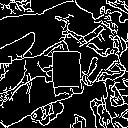cube: (49, 48, 85, 96)
